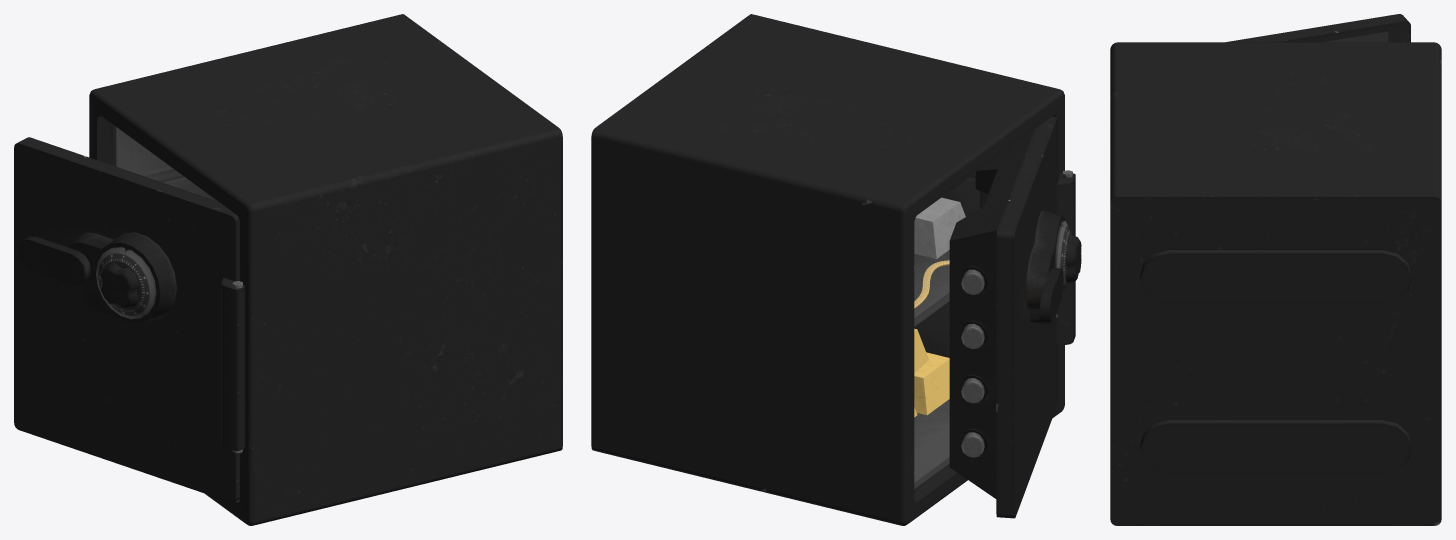
Rendered from black-market-hub.fbx.
3 views of the same model, side by side, from view 1: azimuth 30°, elevation 25°; view 2: azimuth 150°, elevation 25°; view 3: azimuth 270°, elevation 25° (orthographic). The views are drawn at different scales.
Parts seen in each view (by area): view 1: Safe_Vault, Safe_Vault_Door, Cylinder.017, Cube.013; view 2: Safe_Vault, Safe_Vault_Door, Bullion_Gold_1, Bullion_Gold_2, Cylinder.017, Cube.013; view 3: Safe_Vault, Safe_Vault_Door.
Part boxes in pixels (<box>): Safe_Vault: <box>89,14,562,525</box>; Safe_Vault_Door: <box>14,137,245,502</box>; Cylinder.017: <box>96,247,156,319</box>; Cube.013: <box>17,236,90,284</box>; Safe_Vault: <box>591,14,1064,525</box>; Safe_Vault_Door: <box>949,116,1075,518</box>; Bullion_Gold_1: <box>914,197,965,308</box>; Bullion_Gold_2: <box>914,328,949,417</box>; Cylinder.017: <box>1054,220,1081,293</box>; Cube.013: <box>1039,268,1063,324</box>; Safe_Vault: <box>1110,42,1441,525</box>; Safe_Vault_Door: <box>1226,14,1410,42</box>.
Bounding box in the file's own units: 48.44 × 35.02 × 31.93.
